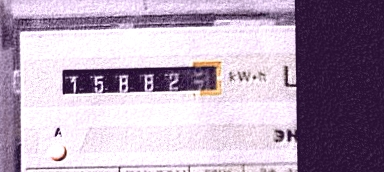1: (69, 75, 78, 93)
2: (168, 71, 180, 91)
5: (91, 74, 105, 94)
7: (192, 78, 204, 90)
8: (142, 72, 155, 93), (118, 73, 130, 93)
screen: (56, 59, 226, 102)
